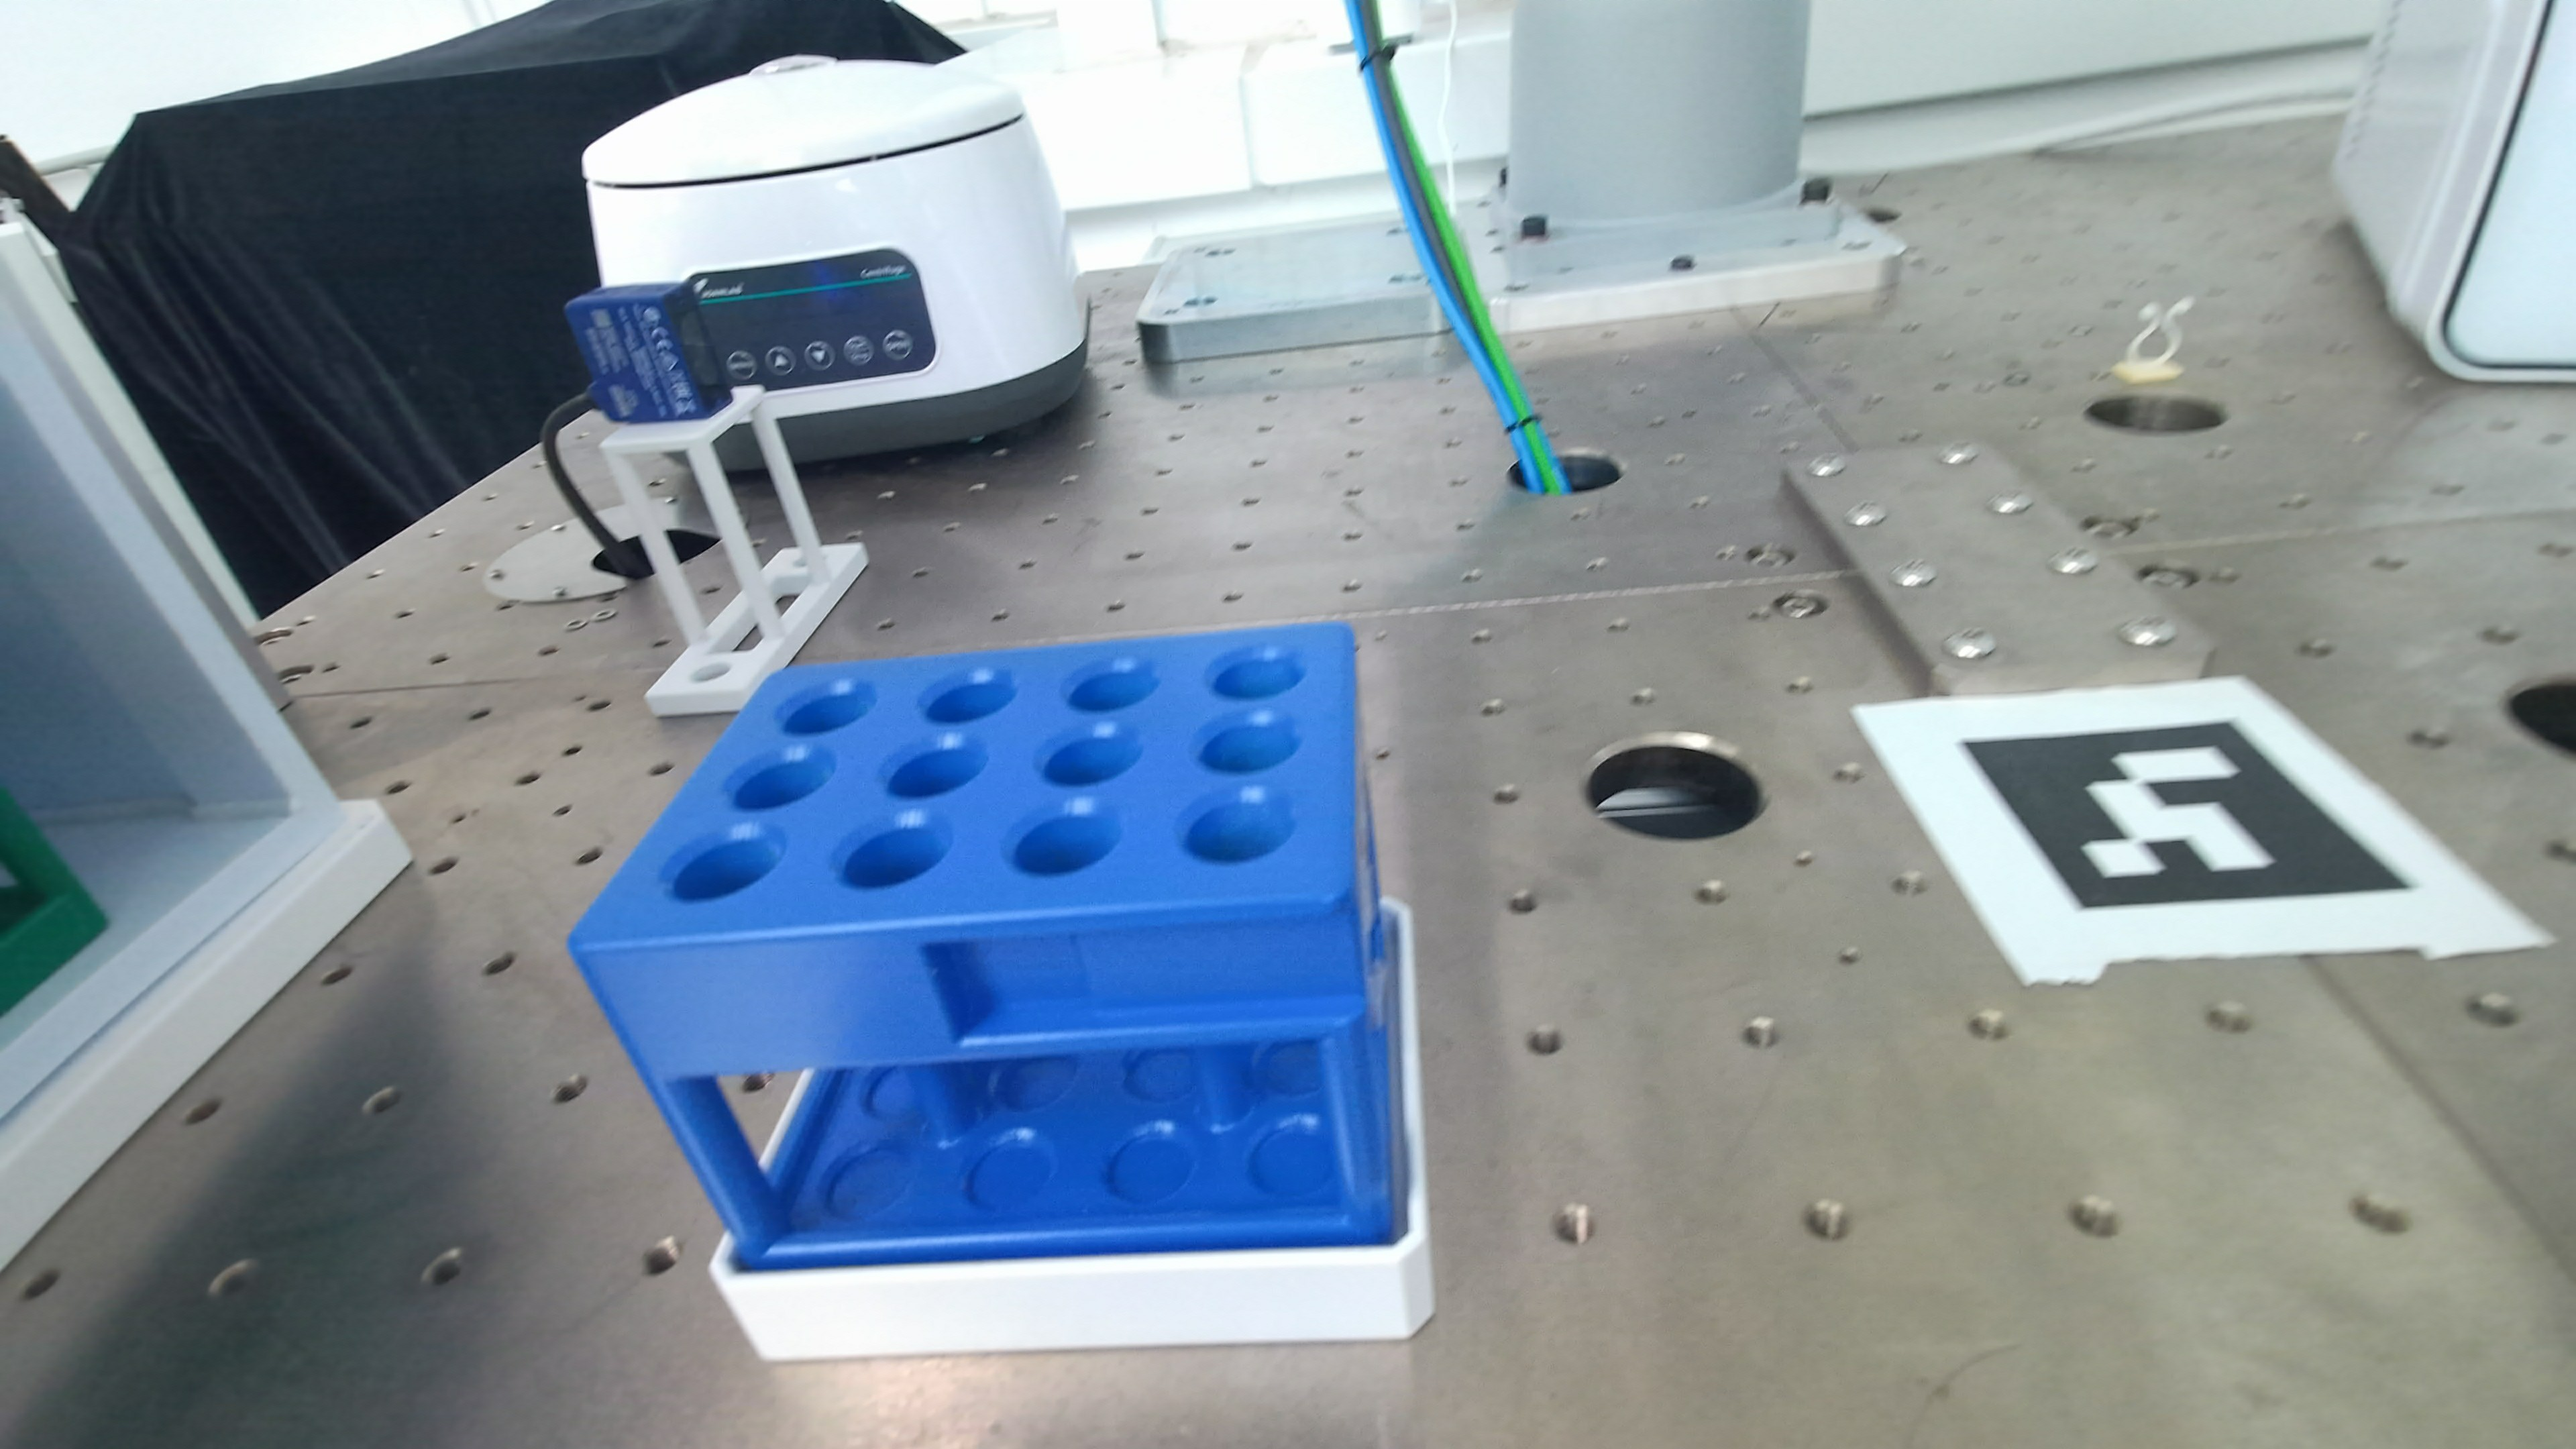10ML_sorting_tube_rack: (571, 623, 1401, 1270)
5ML_sorting_tube_rack: (0, 789, 108, 1014)
centrifuge_close: (584, 34, 1086, 467)
refrigerator_close: (2335, 0, 2576, 380)
sorting_tube_rack_base: (711, 899, 1435, 1361)
tube_rack_storage_cabinet: (0, 299, 409, 1263)
